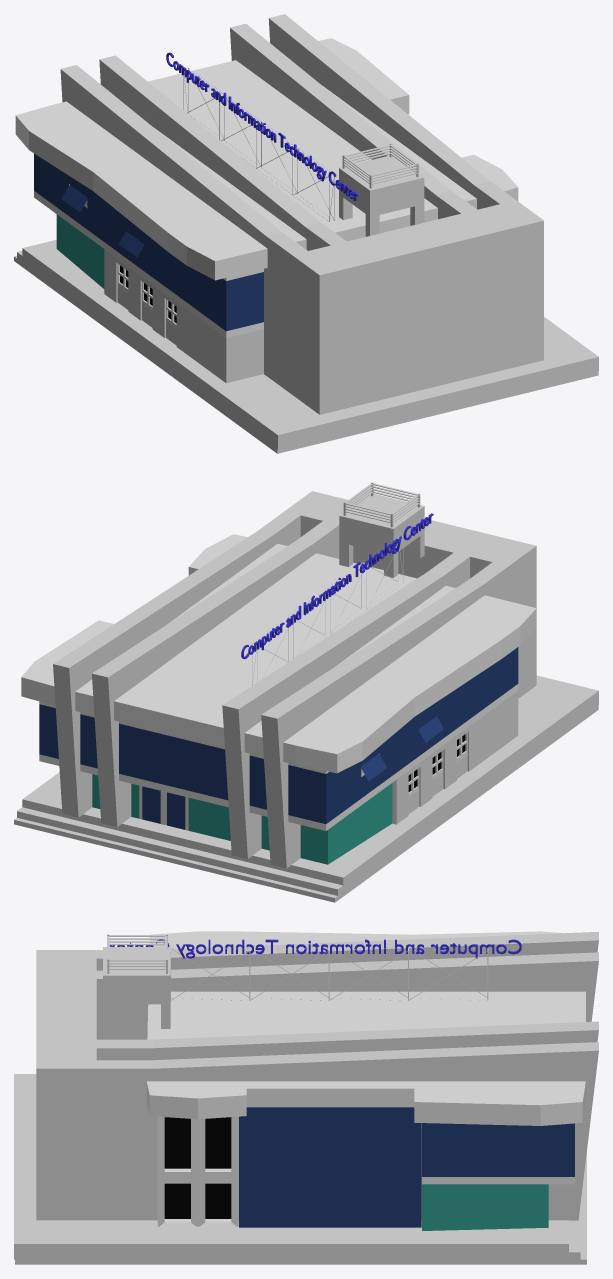
Rendered from citc.fbx.
The picture shows the model from 3 angles, top to bottom: view 1: azimuth 30°, elevation 25°; view 2: azimuth 150°, elevation 25°; view 3: azimuth 270°, elevation 25°; orthographic projection. The views are drawn at different scales.
Parts seen in each view (by area): view 1: Cube.004, Cube, Cube.001, Cube.005, Text, Cube.006; view 2: Cube, Cube.004, Cube.001, Cube.005, Text, Cube.006; view 3: Cube.004, Cube, Cube.001, Plane.001, Cube.005, Text, Cube.006.
Part boxes in pixels (x1,y1,x2,y2): Cube.004: [60, 14, 543, 414]; Cube: [15, 38, 518, 383]; Cube.001: [14, 240, 598, 453]; Cube.005: [339, 143, 424, 236]; Text: [166, 52, 358, 200]; Cube.006: [183, 67, 334, 222]; Cube: [21, 534, 536, 864]; Cube.004: [53, 491, 536, 868]; Cube.001: [14, 675, 598, 902]; Cube.005: [339, 482, 424, 577]; Text: [241, 513, 433, 659]; Cube.006: [252, 535, 403, 685]; Cube.004: [36, 931, 598, 1220]; Cube: [146, 931, 585, 1230]; Cube.001: [14, 1074, 586, 1264]; Plane.001: [239, 1107, 421, 1227]; Cube.005: [103, 934, 170, 1028]; Text: [109, 939, 521, 958]; Cube.006: [170, 948, 488, 1000].
Size of the model in its own units: 2593 by 1616 by 3689.
